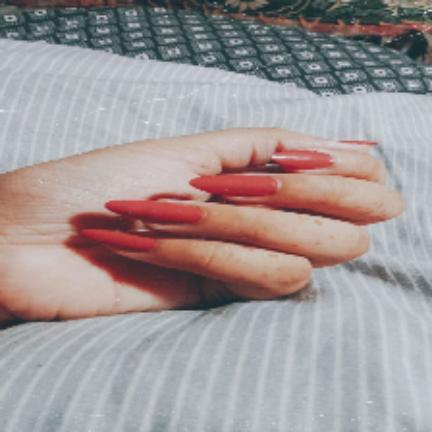Nail: (105, 200, 205, 222), (190, 175, 279, 196), (81, 229, 156, 251), (272, 150, 333, 169)
